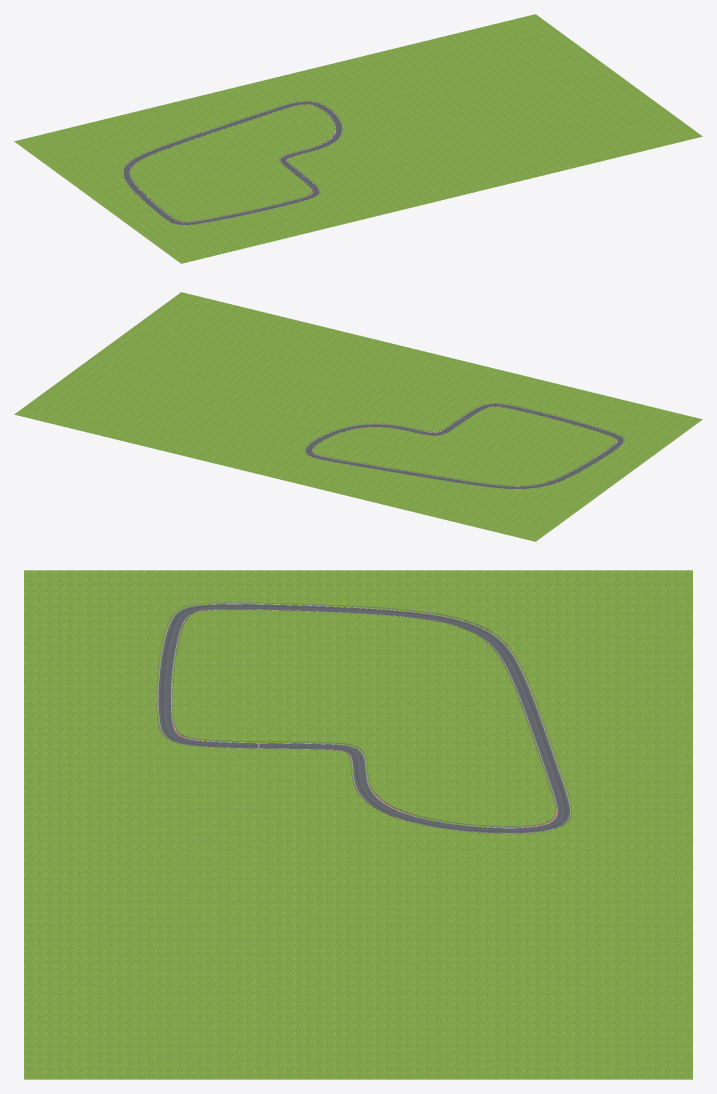
File: Track1.fbx
The picture shows the model from 3 angles, top to bottom: view 1: azimuth 30°, elevation 25°; view 2: azimuth 150°, elevation 25°; view 3: azimuth 270°, elevation 25°; orthographic projection. The views are drawn at different scales.
Parts seen in each view (by area): view 1: land, track1; view 2: land, track1; view 3: land, track1, fence_V, fence_V.001, fence.001, fence.
Boxes of the visible parts, x1,y1,x2,y2 form: land: [14, 14, 702, 263]; track1: [123, 101, 342, 225]; land: [14, 292, 702, 541]; track1: [305, 403, 623, 489]; land: [24, 570, 692, 1079]; track1: [158, 604, 570, 833]; fence_V: [156, 602, 571, 833]; fence_V.001: [172, 609, 556, 826]; fence.001: [172, 609, 555, 827]; fence: [156, 602, 571, 833].
Bounding box in the file's own units: 1800 × 1000 × 2.8.
